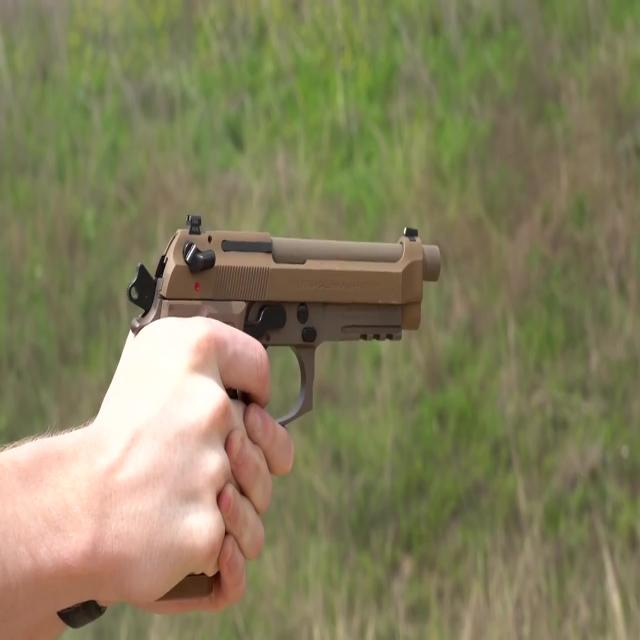Weapon: (69, 136, 446, 624)
